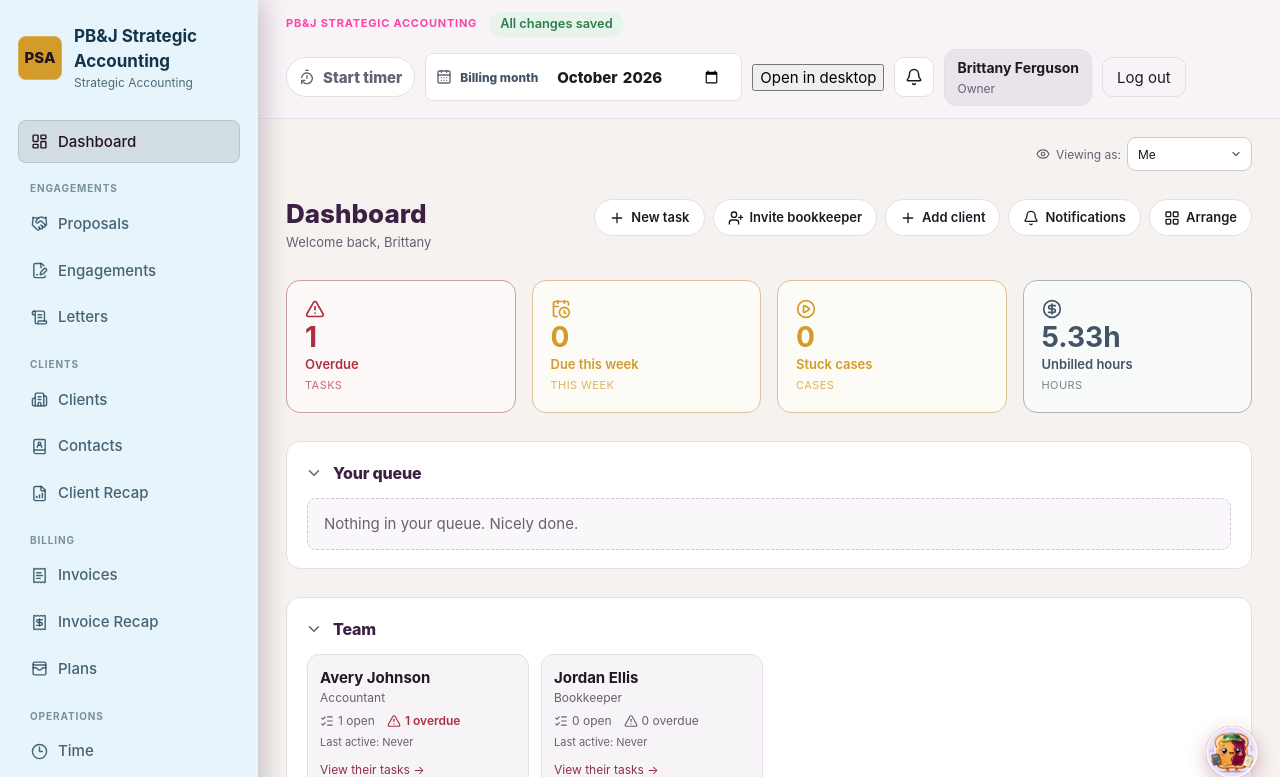
Arrange › hides a panel
The image size is (1280, 777).
Expected: the heading "Dashboard" is shown, [286,199,431,229]
Click the button "Arrange" at [1200, 218], box [1149,199,1252,236]
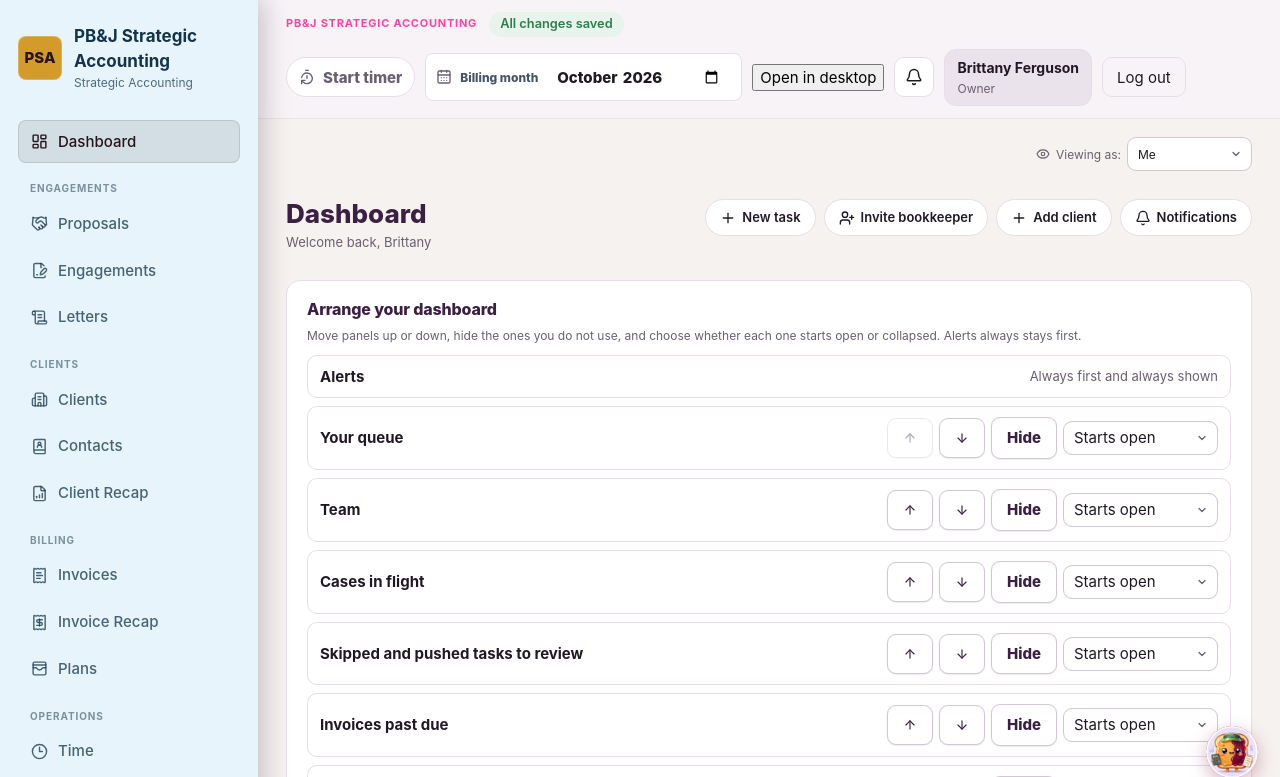
Click the button with aria-label "Hide Team" at [1024, 510], box [991,489,1057,531]
(page scrolled)
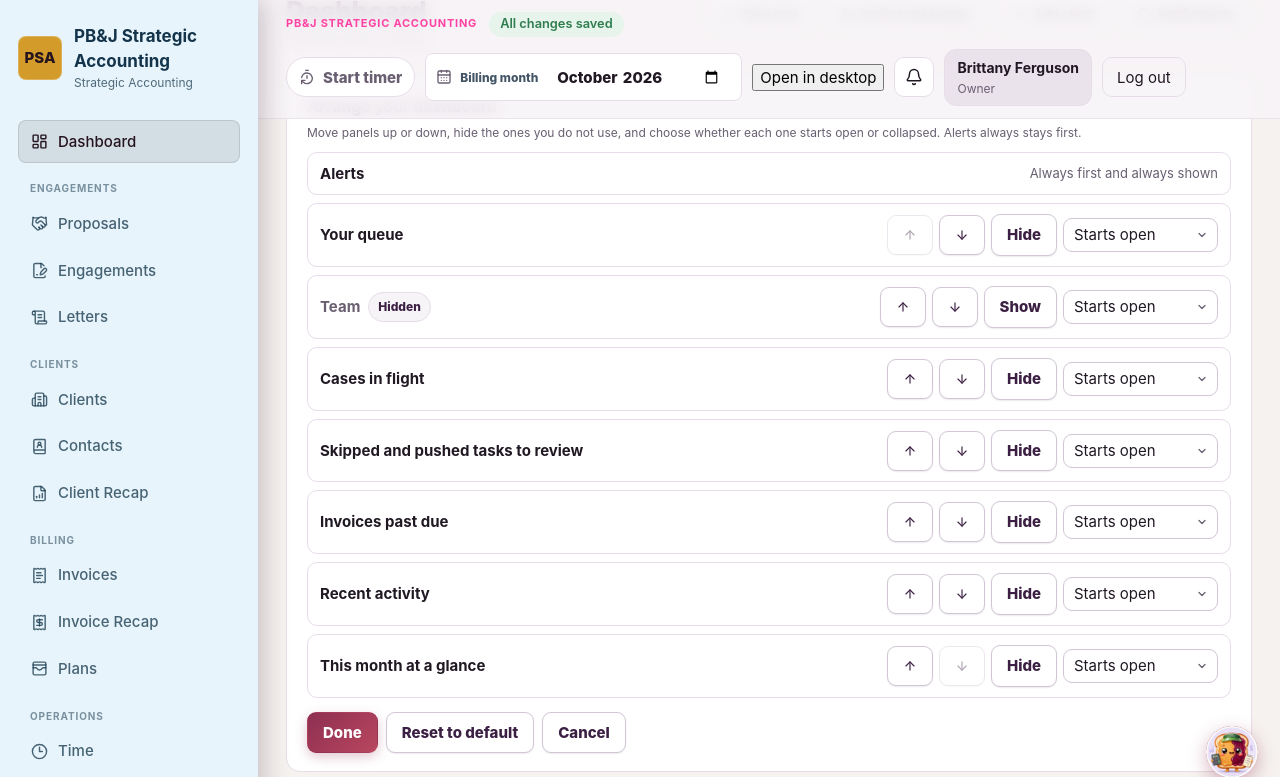
Now the button with aria-label "Show Team" is shown, box [984,286,1057,328]
Click the button "Done" at [342, 732], box [307,712,378,753]
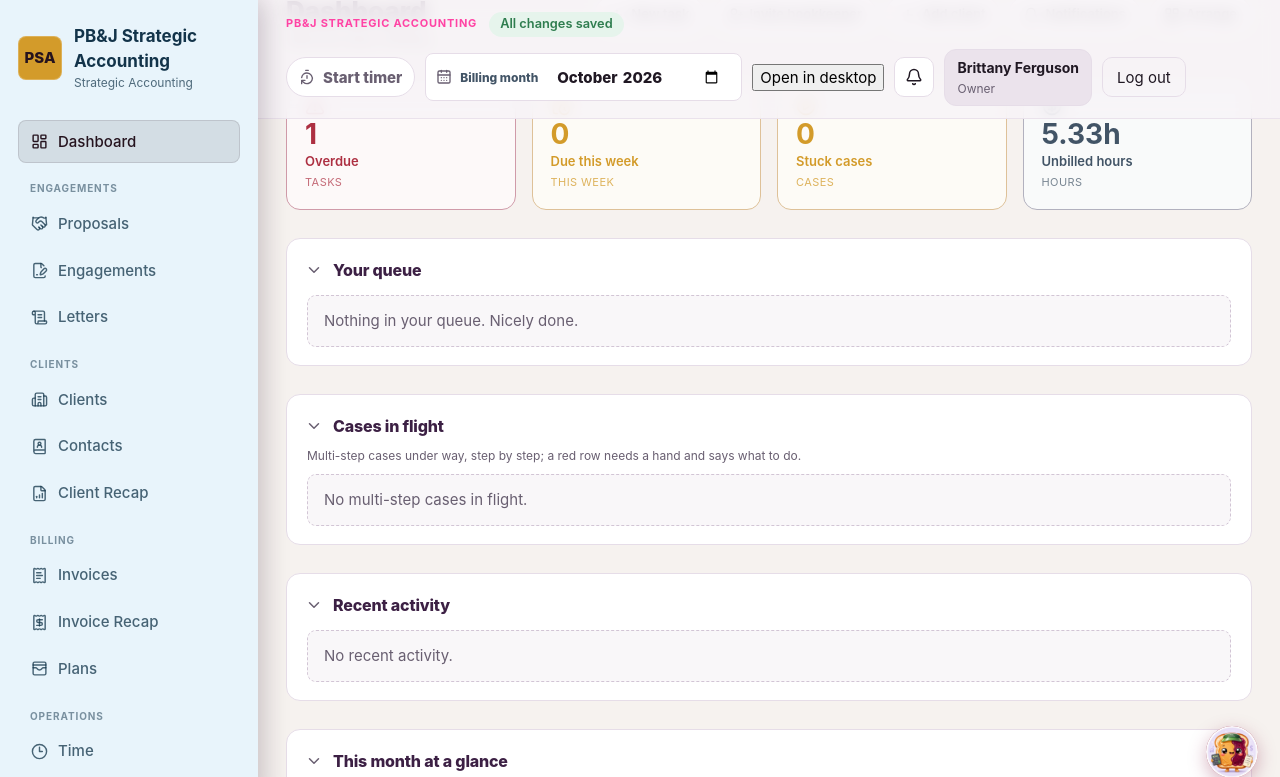
Now the text "Team" is gone
